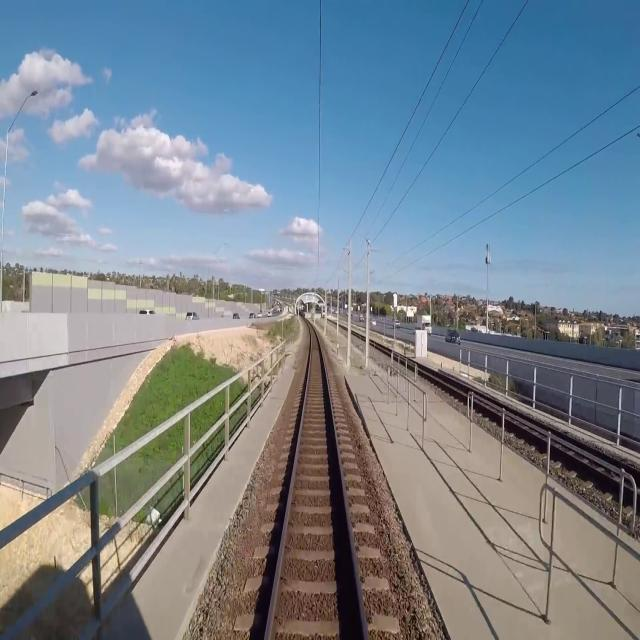rail-track: (270, 327, 362, 639), (551, 431, 640, 488), (417, 364, 468, 393), (530, 421, 549, 430)
